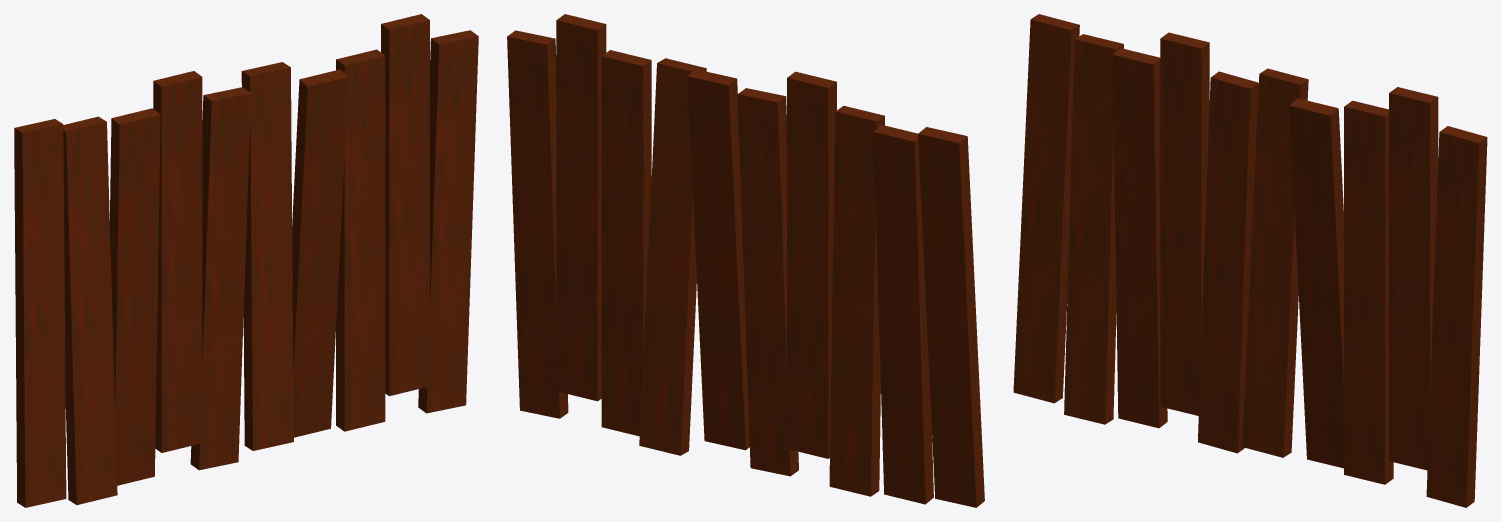
The model's file is WoodenFence.fbx.
The picture shows the model from 3 angles, left to right: view 1: azimuth 30°, elevation 25°; view 2: azimuth 150°, elevation 25°; view 3: azimuth 330°, elevation 25°; orthographic projection.
Parts seen in each view (by area): view 1: Cube.018; view 2: Cube.018; view 3: Cube.018.
Boxes of the visible parts, bbox=[...] form: Cube.018: bbox=[14, 14, 478, 507]; Cube.018: bbox=[507, 14, 984, 507]; Cube.018: bbox=[1013, 14, 1487, 507].
Bounding box in the file's own units: 138 × 114 × 13.57.
1 material, 1 textured.
